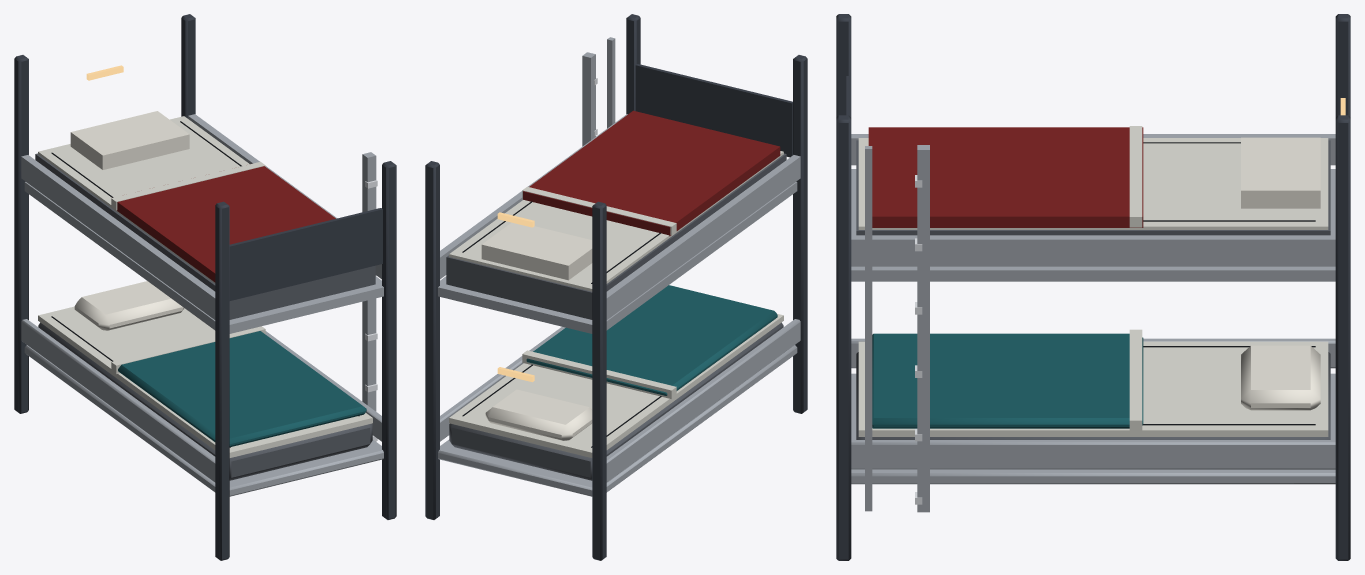
Rendered from bed_bunk_bed.glb.
3 renders of one model, left to right at view 1: azimuth 30°, elevation 25°; view 2: azimuth 150°, elevation 25°; view 3: azimuth 270°, elevation 25°, orthographic. The views are drawn at different scales.
Visible parts, largest first — view 1: bed_bunk_bed; view 2: bed_bunk_bed; view 3: bed_bunk_bed.
Boxes of the visible parts, <box> form: bed_bunk_bed: <box>14,14,396,560</box>; bed_bunk_bed: <box>425,14,807,560</box>; bed_bunk_bed: <box>836,14,1350,560</box>.
Size of the model in its own units: 1.09 by 1.95 by 2.06.
